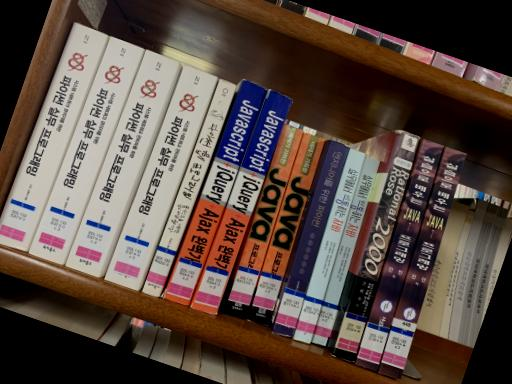book-spine: (28, 36, 144, 265), (104, 64, 218, 291), (66, 49, 179, 277), (0, 21, 108, 252), (161, 78, 268, 306), (190, 89, 293, 314), (141, 79, 237, 297), (377, 146, 467, 378), (355, 139, 443, 371), (333, 131, 419, 362), (221, 124, 303, 319), (272, 139, 349, 336), (247, 132, 325, 326), (293, 148, 365, 343), (311, 156, 380, 346)
